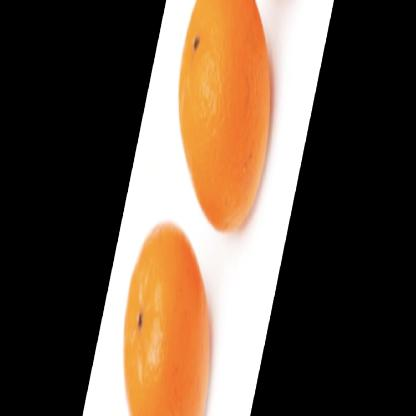fresh: (125, 2, 276, 415)
